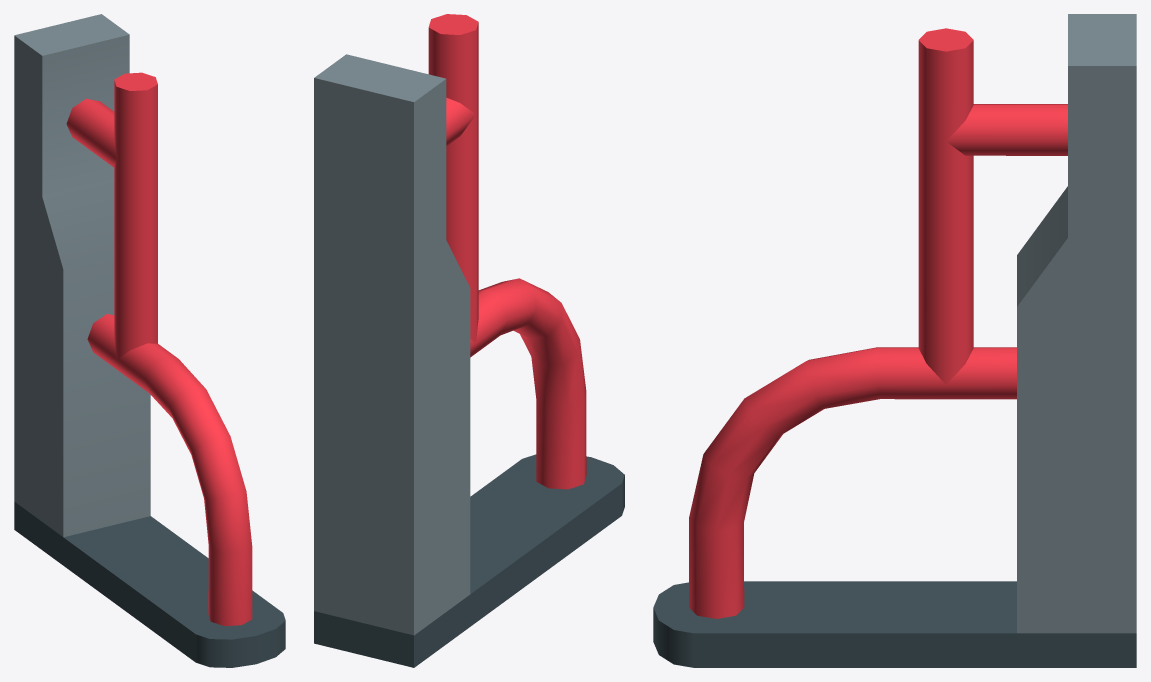
Rendered from Short_column_007.fbx.
3 renders of one model, left to right at view 1: azimuth 30°, elevation 25°; view 2: azimuth 150°, elevation 25°; view 3: azimuth 270°, elevation 25°, orthographic. The views are drawn at different scales.
Visible parts, largest first — view 1: Short_column_007; view 2: Short_column_007; view 3: Short_column_007.
Boxes of the visible parts, x1=… form: Short_column_007: x1=14, y1=14, x2=285, y2=667; Short_column_007: x1=314, y1=14, x2=624, y2=667; Short_column_007: x1=653, y1=14, x2=1136, y2=667.
Size of the model in its own units: 24.06 by 94.57 by 130.
